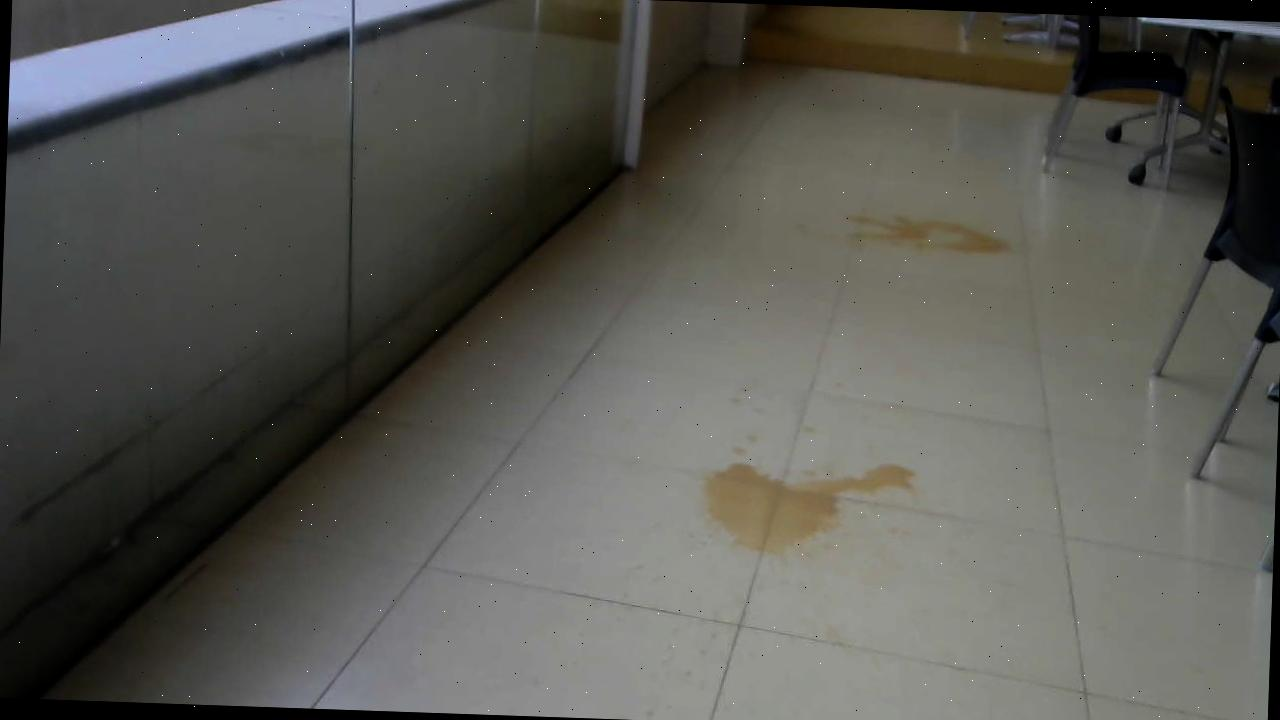dirty_floor: (700, 426, 920, 574)
